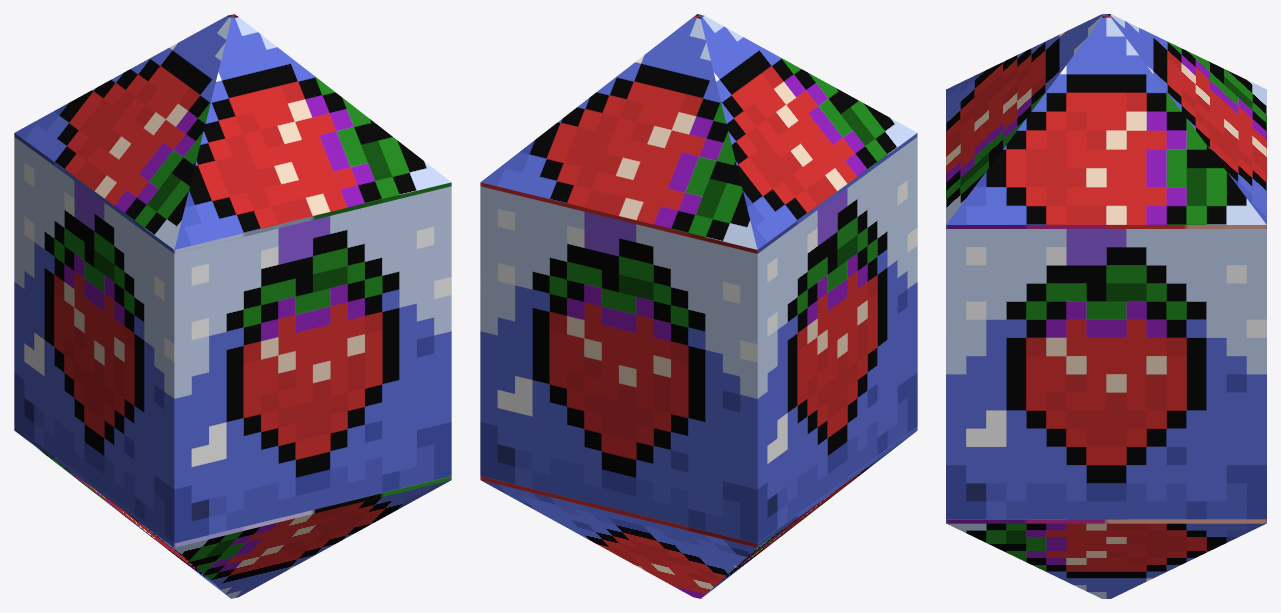
File: prism.glb
The picture shows the model from 3 angles, left to right: view 1: azimuth 30°, elevation 25°; view 2: azimuth 150°, elevation 25°; view 3: azimuth 270°, elevation 25°; orthographic projection.
Visible parts, largest first — view 1: Cube; view 2: Cube; view 3: Cube.
Boxes of the visible parts, x1,y1,x2,y2 form: Cube: (14,14,451,598); Cube: (480,14,917,598); Cube: (946,14,1266,598).
Bounding box in the file's own units: 2 × 4 × 2.
Materials: 1 (1 with a texture image).
